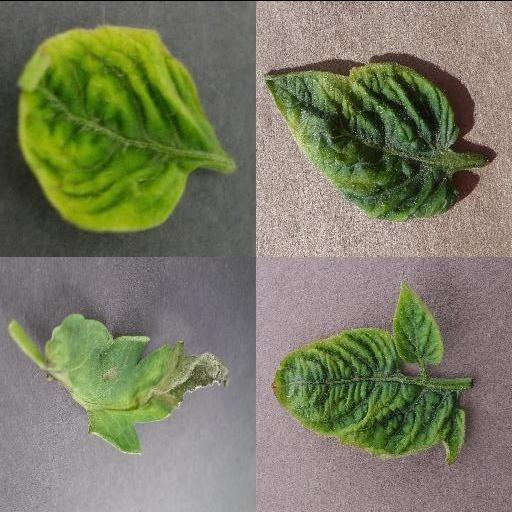Late Blight: (44, 312, 230, 458)
Yellow Leaf Curl Virus: (17, 24, 219, 232), (269, 280, 467, 462), (263, 59, 461, 220)
